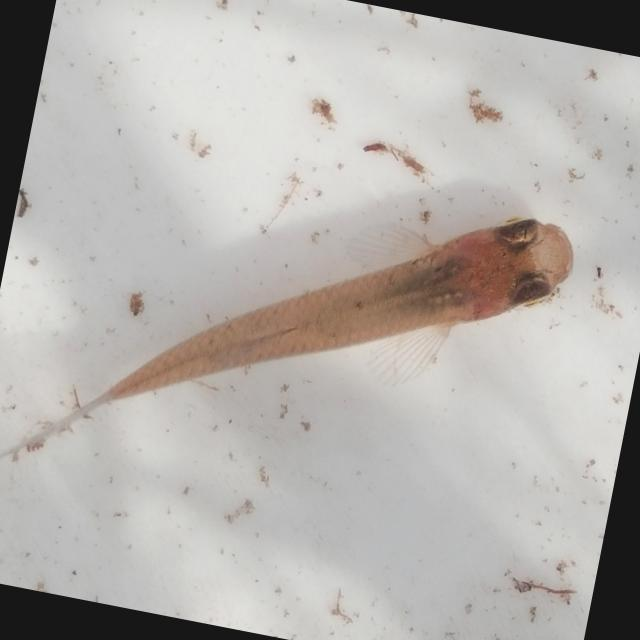Sivrisinek Baligi: (0, 106, 607, 582)
